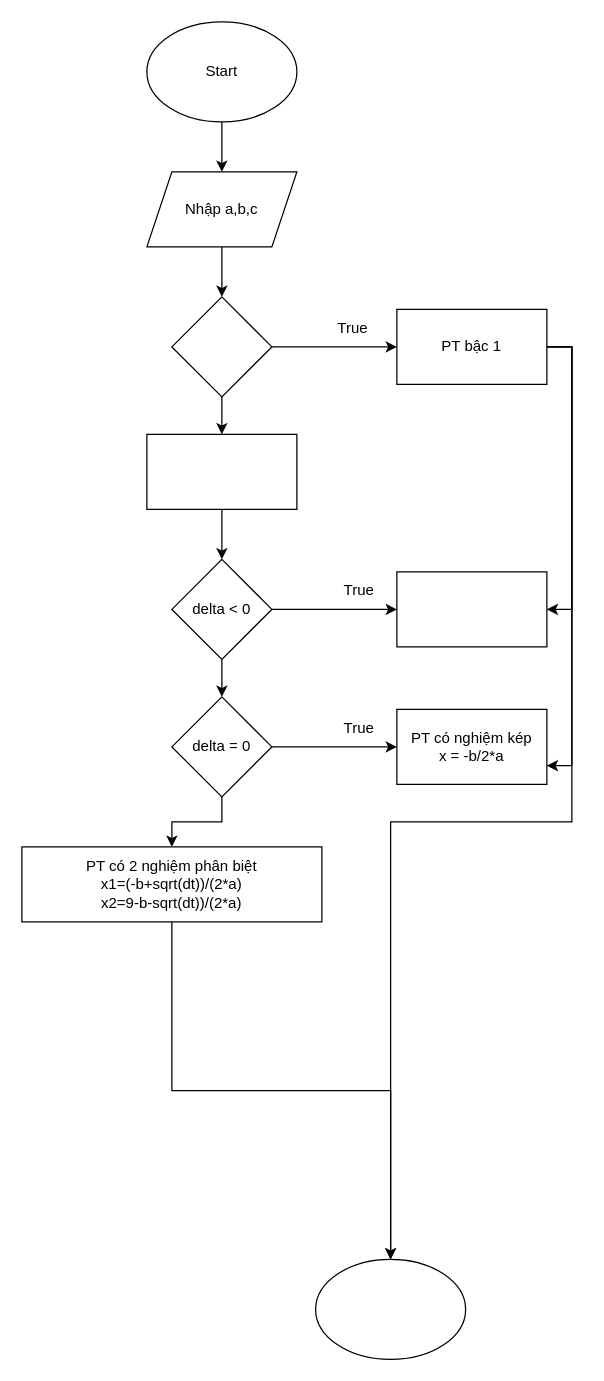
Image size: 604x1381. Some labels were removed from this diagram. Each missing label, with the centre of its shape:
"a = 0" goes at pixel 221 346.
"detla = b^2-4*a*c" goes at pixel 221 471.
"End" goes at pixel 390 1308.
"PT vô nghiệm" goes at pixel 471 609.
